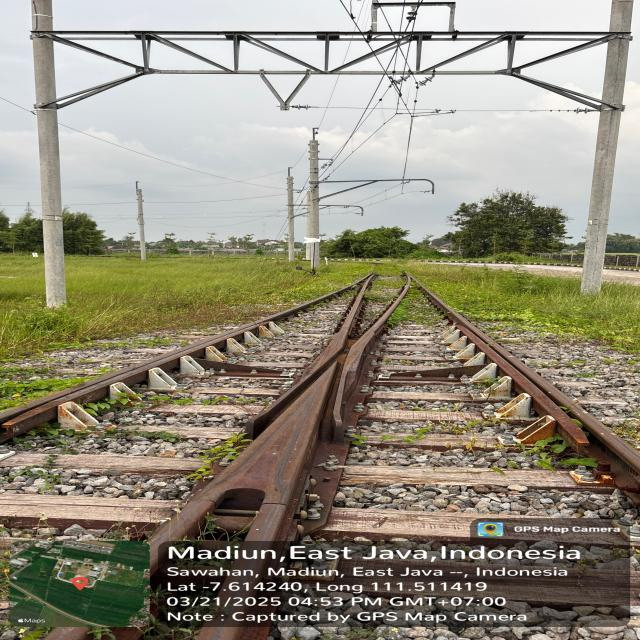rail-detection: (0, 280, 361, 439), (150, 361, 339, 640), (420, 284, 640, 474), (333, 281, 410, 430), (321, 274, 375, 358), (213, 361, 271, 374), (310, 360, 321, 368)
